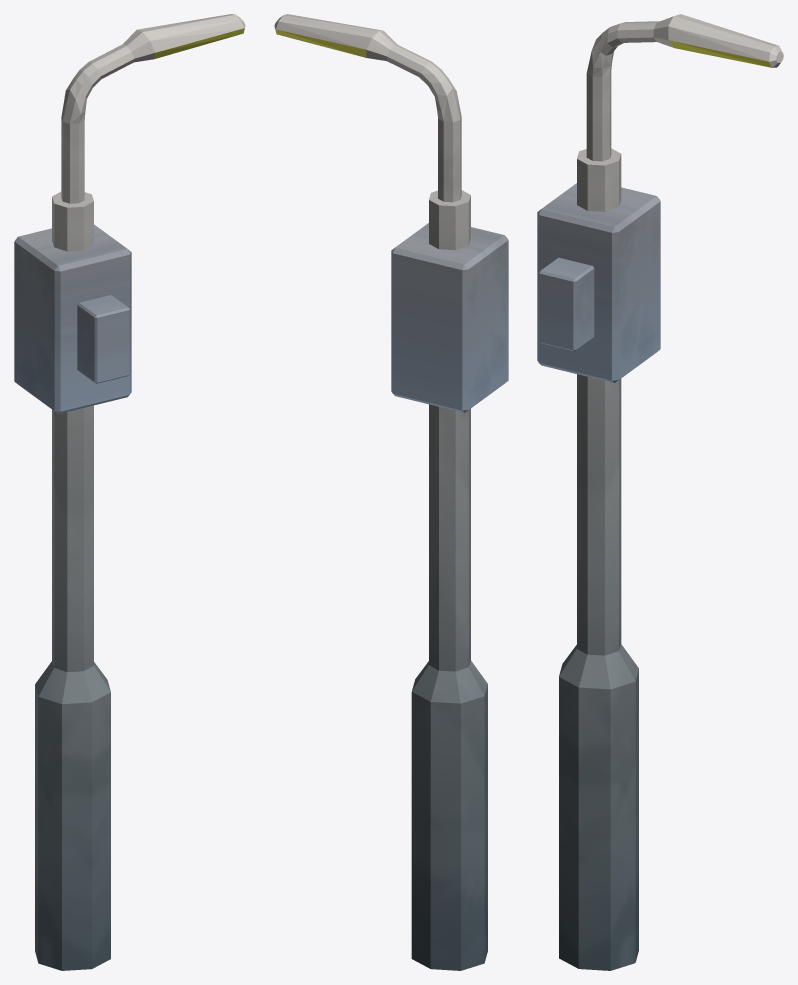
File: Lappost.fbx
3 renders of one model, left to right at view 1: azimuth 30°, elevation 25°; view 2: azimuth 150°, elevation 25°; view 3: azimuth 330°, elevation 25°, orthographic. The views are drawn at different scales.
Visible parts, largest first — view 1: pCylinder8; view 2: pCylinder8; view 3: pCylinder8.
Boxes of the visible parts, left/top/right/bottom form: pCylinder8: left=14, top=14, right=245, bottom=970; pCylinder8: left=274, top=14, right=508, bottom=970; pCylinder8: left=537, top=14, right=783, bottom=970.
Bounding box in the file's own units: 299 × 1236 × 155.
